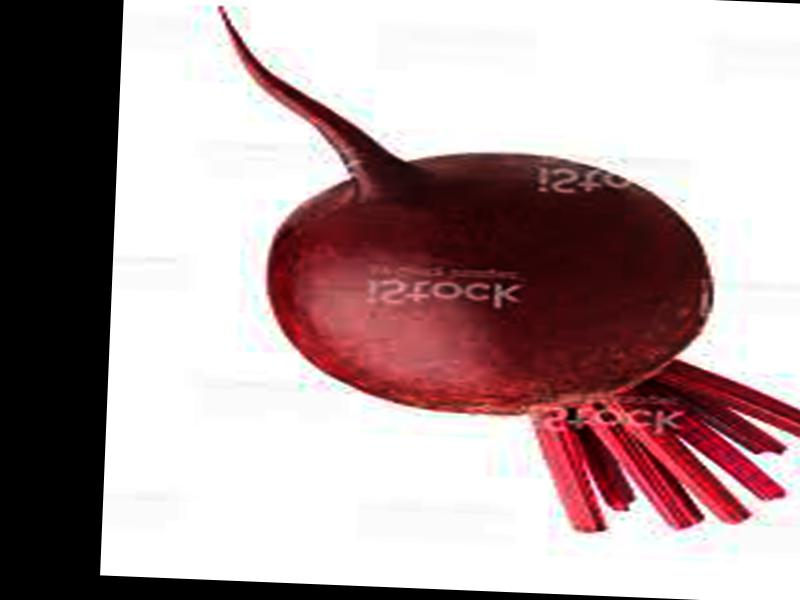Beet: (194, 14, 800, 543)
